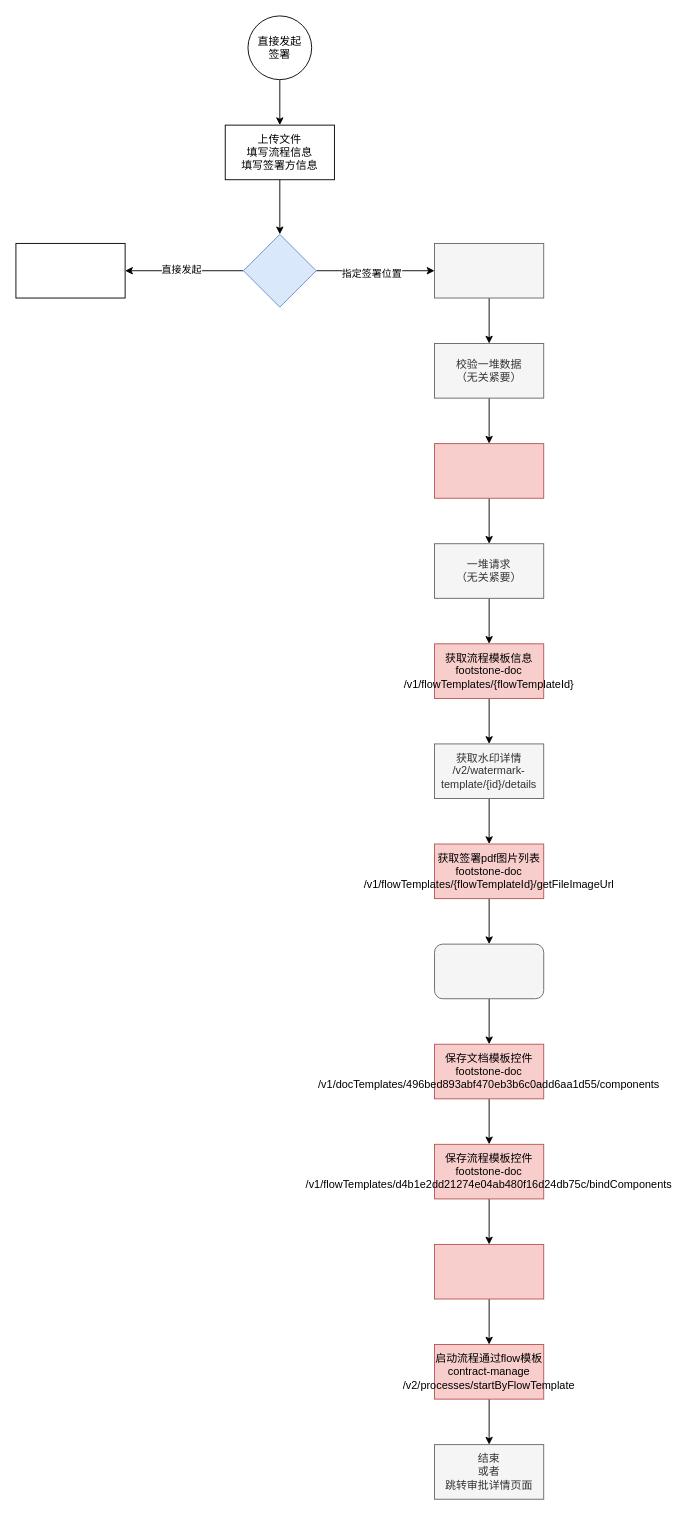
Some shapes in this 688 by 1515 pixel diagram are drawn without their labels. The box of each missing label's shape, as (x1, y1, x2, y2) in pixels:
保存流程模板 contract-manage /v2/processes/flowTemplates: (434, 443, 544, 498)
用户操作 拖拽控件、编辑控件 确认提交: (434, 943, 544, 999)
直接发起？: (243, 233, 316, 307)
确认提交 footstone-doc /v1/flowTemplates/d4b1e2dd21274e04ab480f16d24db75c/confirm: (434, 1244, 544, 1299)
进入指定签署位置 页面: (434, 243, 544, 298)
